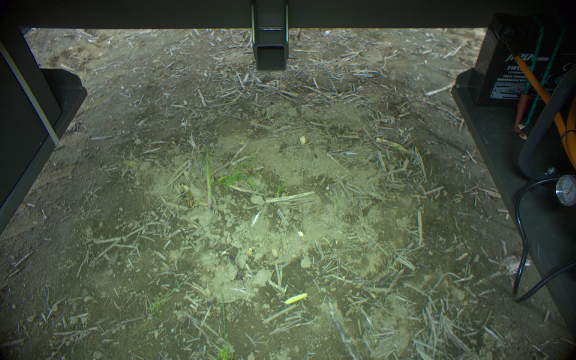aspa: (203, 136, 218, 211), (376, 136, 406, 152), (284, 292, 309, 306)
